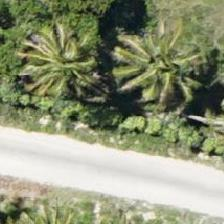coconut_tree: (16, 15, 106, 105), (114, 21, 204, 111)
